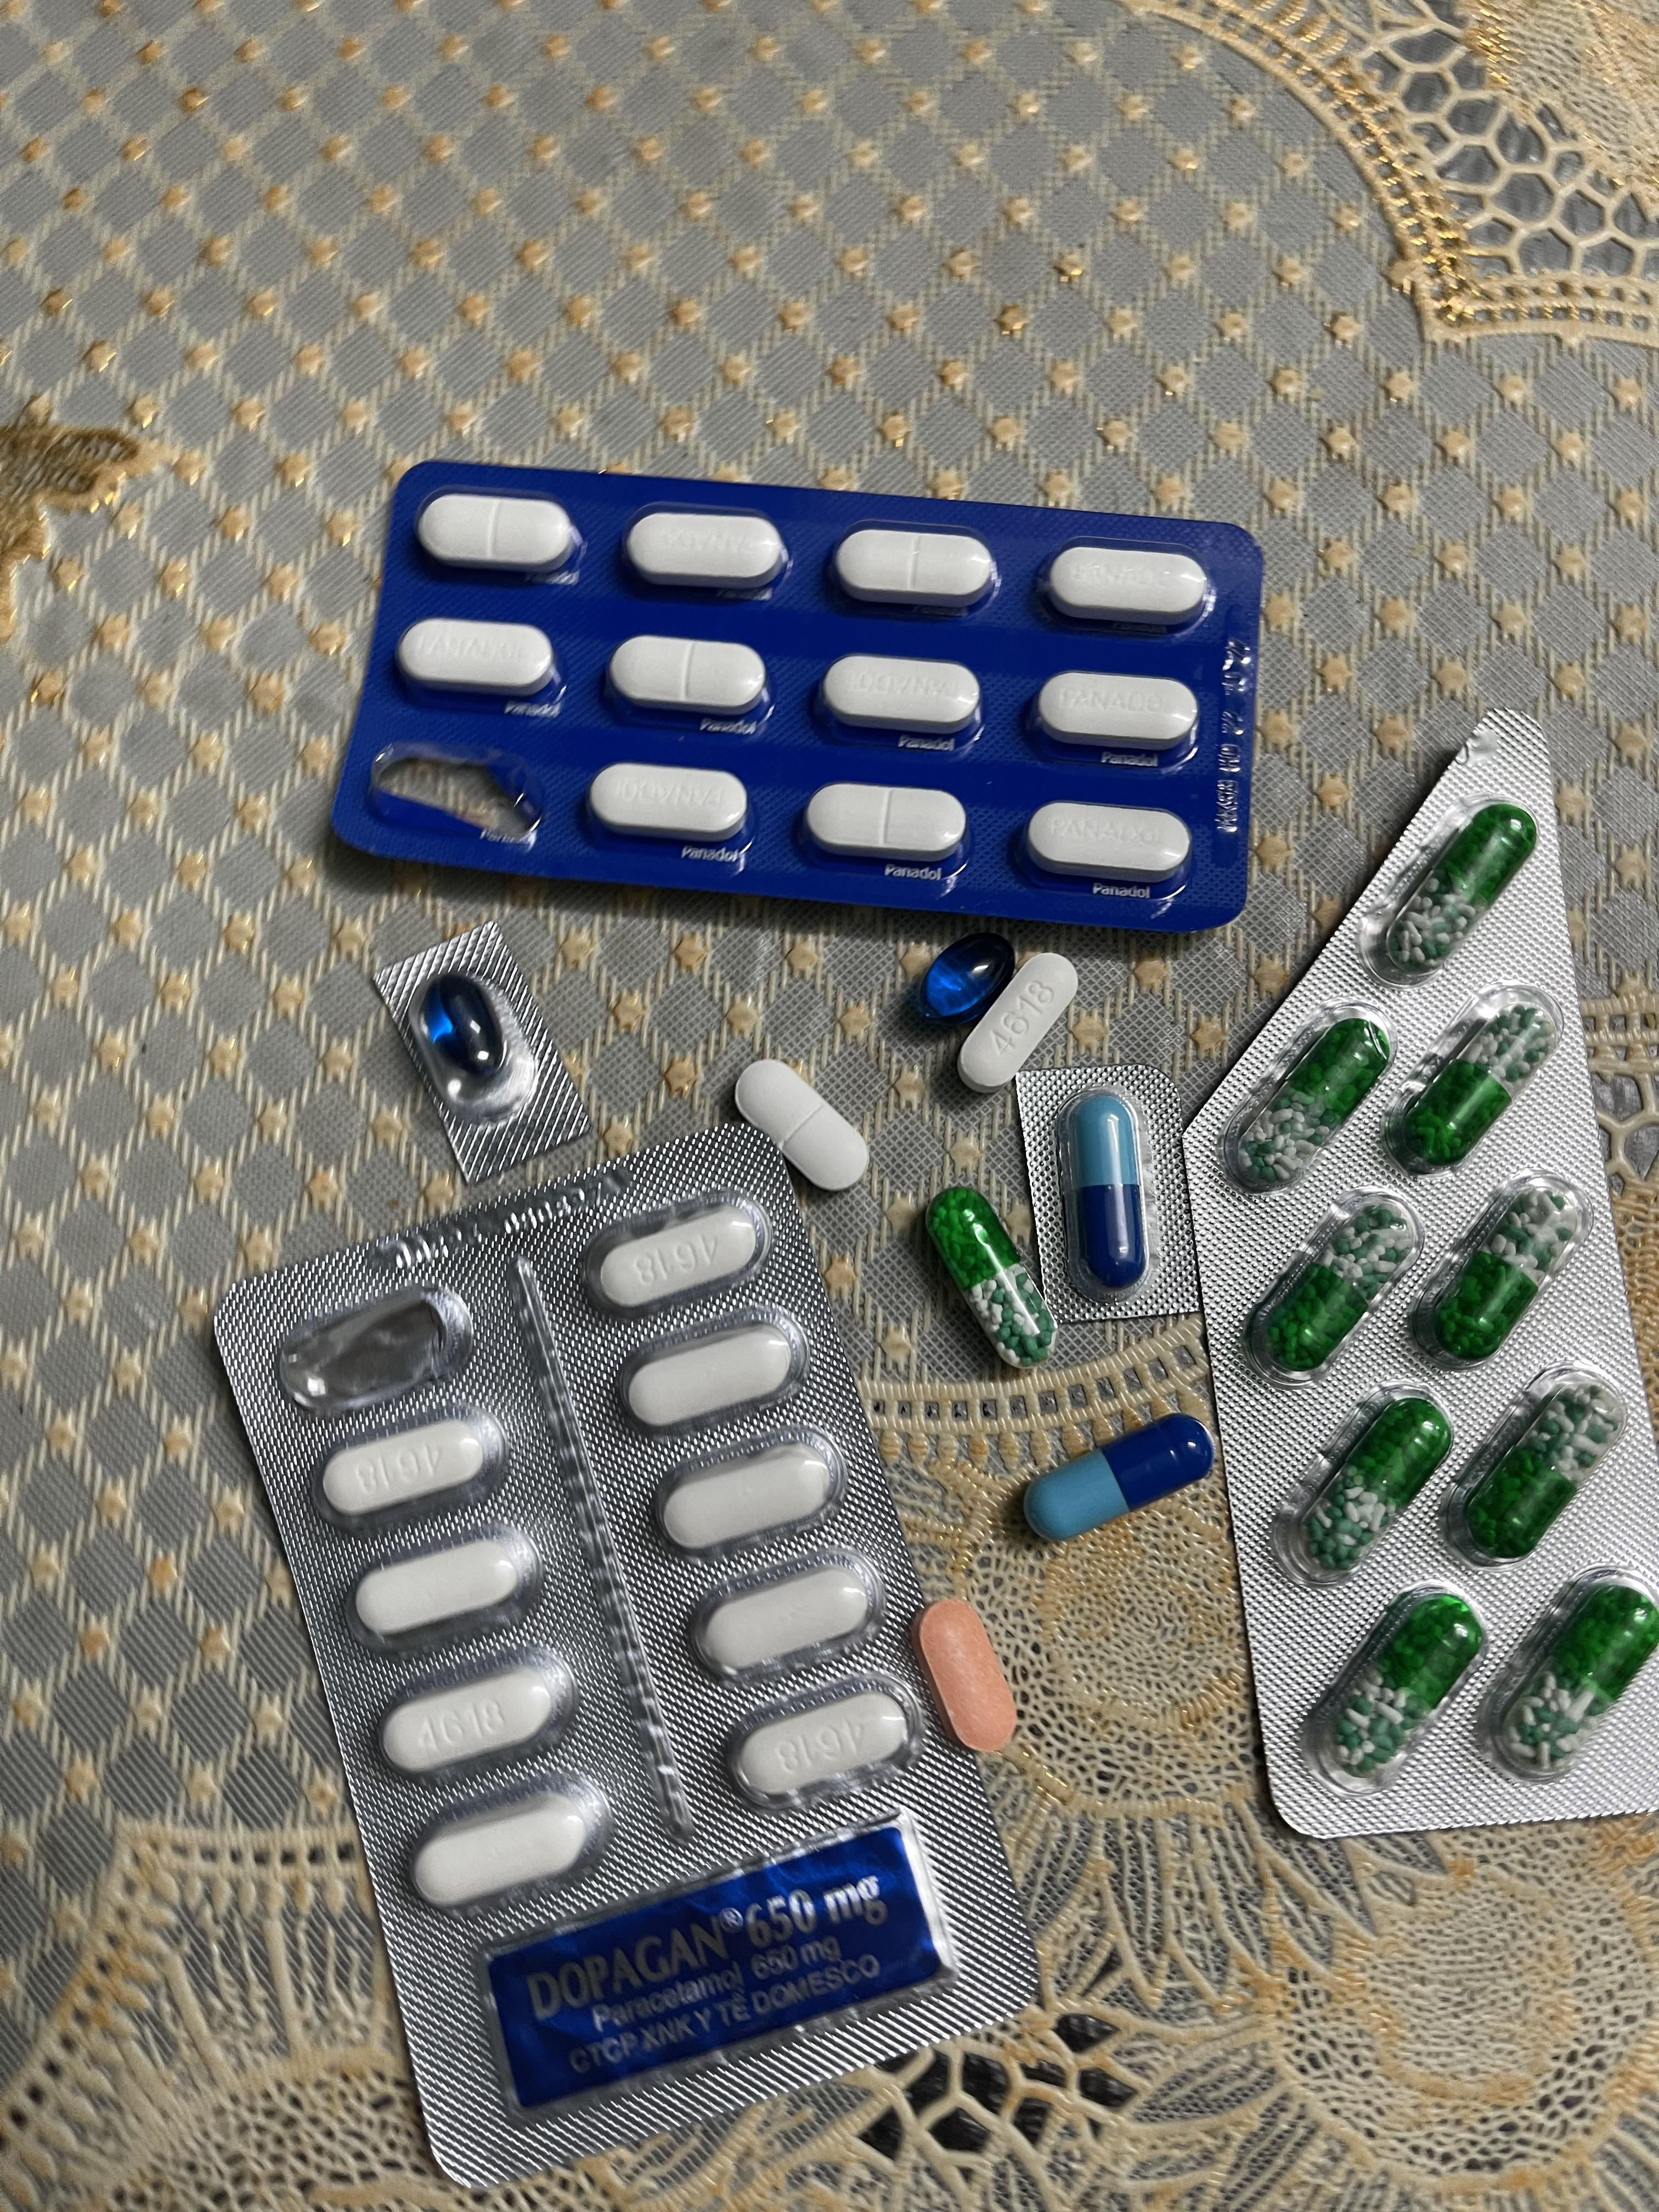Lincomyxin_500mg: (910, 930, 1016, 1021), (427, 977, 505, 1076)
Loratadine_10mg: (915, 1599, 1016, 1754)
Paracetamol_350mg: (737, 1054, 871, 1186), (624, 507, 793, 594), (1042, 543, 1211, 629), (416, 491, 580, 578), (608, 634, 770, 721), (819, 653, 983, 738), (1035, 671, 1201, 754), (833, 528, 999, 611), (397, 617, 558, 702), (803, 782, 969, 864), (1026, 803, 1190, 885), (589, 763, 749, 845)
Paracetamol_500mg: (406, 1782, 605, 1907), (378, 1649, 575, 1775), (659, 1432, 845, 1555), (687, 1554, 873, 1676), (349, 1529, 537, 1648), (728, 1688, 913, 1808), (620, 1310, 807, 1428), (321, 1413, 500, 1522), (594, 1207, 760, 1310), (951, 949, 1077, 1083)
Paracetamol_650mg: (1474, 1569, 1659, 1780), (1439, 1364, 1631, 1566), (1304, 1588, 1481, 1796), (1277, 1388, 1455, 1585), (1408, 1172, 1588, 1366), (1244, 1188, 1419, 1383), (1380, 988, 1565, 1170), (1222, 1005, 1391, 1188), (1380, 805, 1539, 974), (925, 1188, 1054, 1366)
pill: (1023, 1411, 1209, 1543), (1056, 1085, 1157, 1299)
